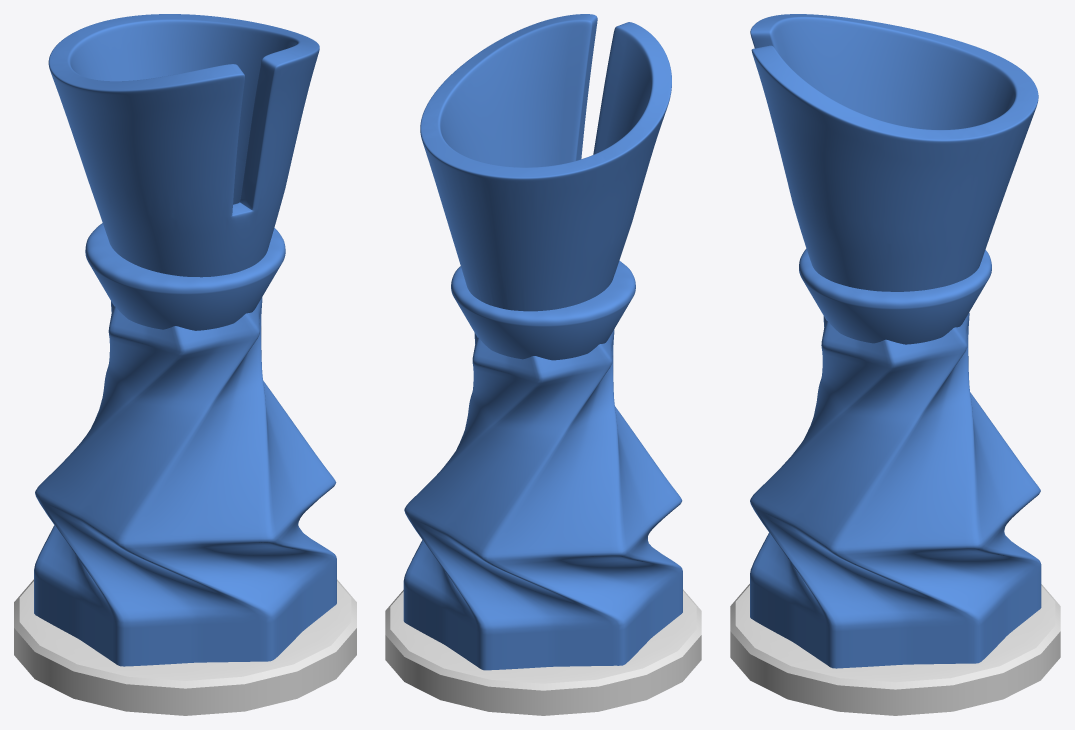
The model's file is bishop.fbx.
3 renders of one model, left to right at view 1: azimuth 30°, elevation 25°; view 2: azimuth 150°, elevation 25°; view 3: azimuth 270°, elevation 25°, orthographic. The views are drawn at different scales.
Parts seen in each view (by area): view 1: bishop, Star028, Cylinder023; view 2: bishop, Star028, Cylinder023; view 3: bishop, Star028, Cylinder023.
Part boxes in pixels (bbox=[...]): bishop: bbox=[34, 297, 336, 666]; Star028: bbox=[48, 14, 319, 330]; Cylinder023: bbox=[14, 579, 356, 715]; bishop: bbox=[403, 329, 682, 670]; Star028: bbox=[420, 14, 671, 360]; Cylinder023: bbox=[385, 589, 701, 715]; bishop: bbox=[750, 313, 1041, 668]; Star028: bbox=[750, 14, 1038, 344]; Cylinder023: bbox=[730, 584, 1060, 715].
Bounding box in the file's own units: 37.65 × 75.17 × 37.08.
